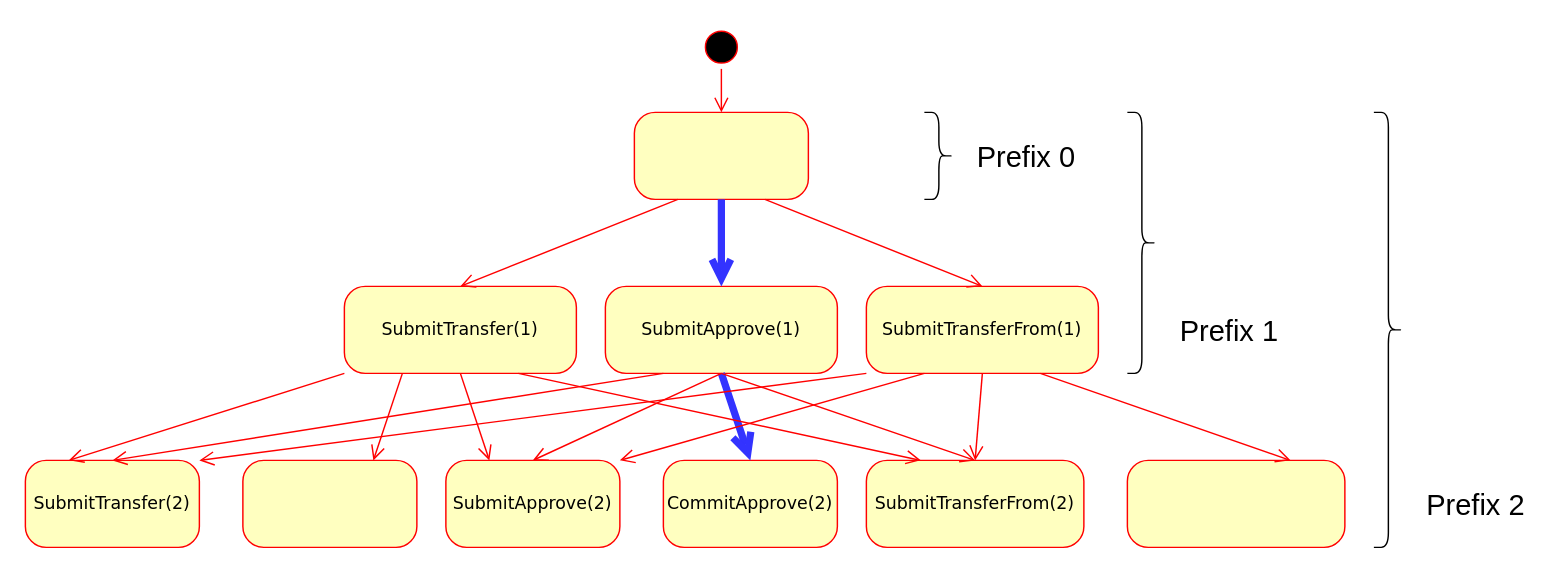
This 1559x573 diagram has some shape labels left out. Each missing label, with the box of its shape:
CommitTransfer(2): (241, 459, 417, 547)
CommitTransferFrom(2): (1126, 459, 1345, 547)
Init(0): (633, 111, 808, 199)
